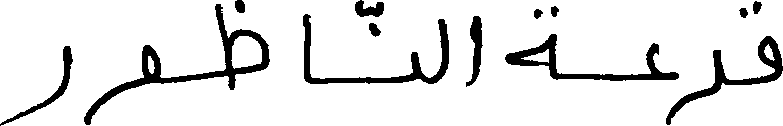ا: (467, 14, 481, 86), (300, 12, 312, 84)
ة: (502, 4, 554, 80)
ر: (0, 44, 71, 124), (678, 48, 722, 112)
ظ: (213, 0, 269, 90)
ع: (616, 40, 679, 89)
ق: (738, 0, 781, 84)
ل: (435, 17, 448, 83)
ن: (363, 21, 425, 82)
و: (82, 43, 161, 125)
